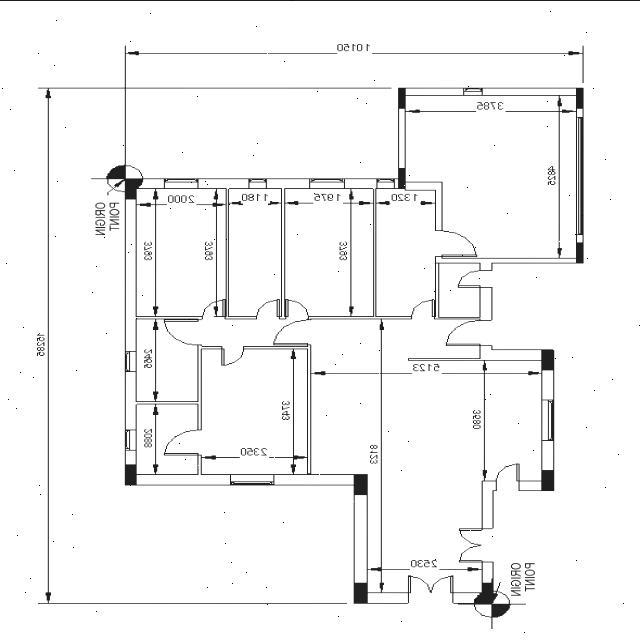Column: (353, 581, 368, 603), (353, 473, 368, 494), (541, 469, 555, 490), (482, 582, 494, 604), (542, 348, 554, 370), (125, 464, 136, 484), (125, 178, 136, 198), (576, 86, 584, 108), (398, 86, 406, 108), (398, 167, 406, 188), (576, 242, 584, 262)
Door: (446, 318, 492, 346), (435, 230, 478, 258), (273, 318, 311, 346), (163, 428, 202, 454), (164, 318, 202, 344), (496, 462, 520, 490), (457, 269, 493, 287), (202, 298, 230, 318), (256, 298, 282, 318), (284, 298, 310, 318), (411, 298, 436, 318), (222, 345, 244, 365)
Double-Door: (408, 574, 453, 604), (459, 528, 493, 562)
Window: (576, 116, 584, 234), (230, 473, 274, 485), (542, 398, 554, 440), (309, 178, 345, 188), (164, 178, 198, 188), (125, 428, 137, 449), (125, 350, 136, 371), (463, 86, 483, 95), (376, 178, 394, 188), (248, 178, 266, 188)
